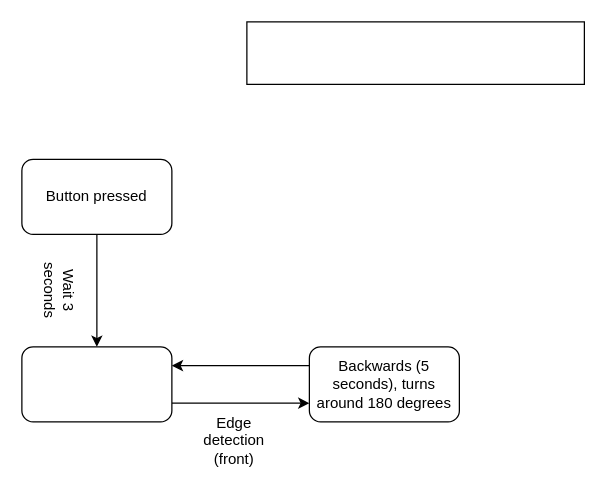
Some shapes in this 606 by 489 pixel diagram are drawn without their labels. Here are the shapes that lost their labels. From the top down, the centre of each, then its label:
At point 415,52: "Sumo robot".
At point 96,384: "Foward / swivel".
